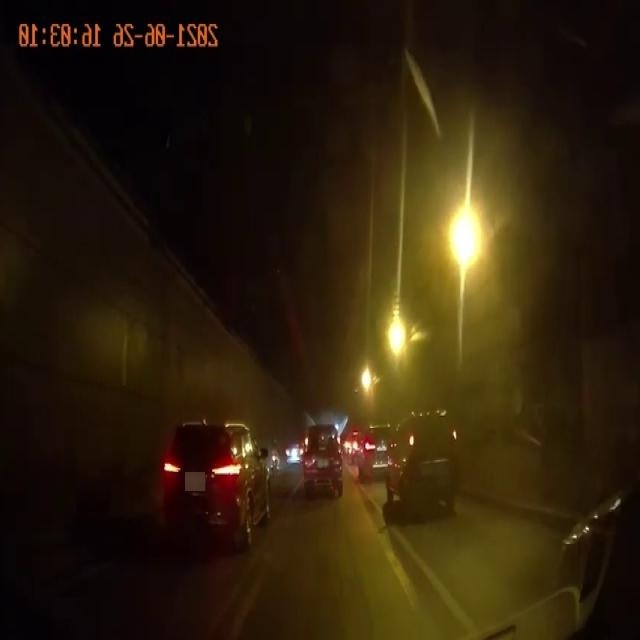car: (151, 425, 270, 549), (387, 407, 461, 521), (302, 412, 342, 500), (356, 419, 396, 479)
motorcycle: (270, 435, 280, 477)
